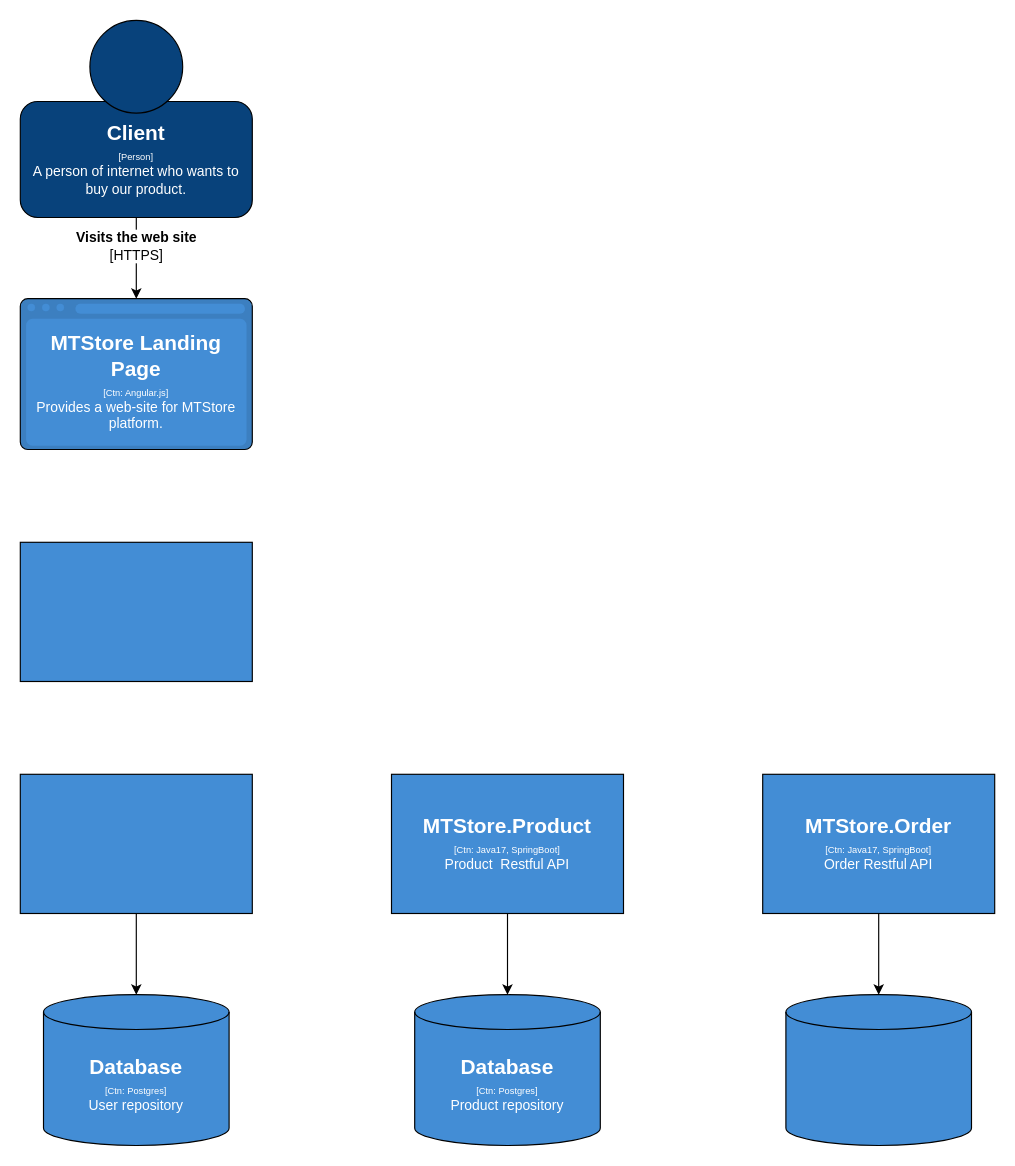
This 1015x1166 diagram has some shape labels left out. Each missing label, with the centre of its shape:
"Database [Ctn: Postgres] Order repository" belongs at (x=878, y=1070).
"MTStore.Auth [Ctn: Java17, SpringBoot] API for Auth" belongs at (x=135, y=611).
"MTStore.User [Ctn: Java17, SpringBoot] User Restful API" belongs at (x=135, y=843).
